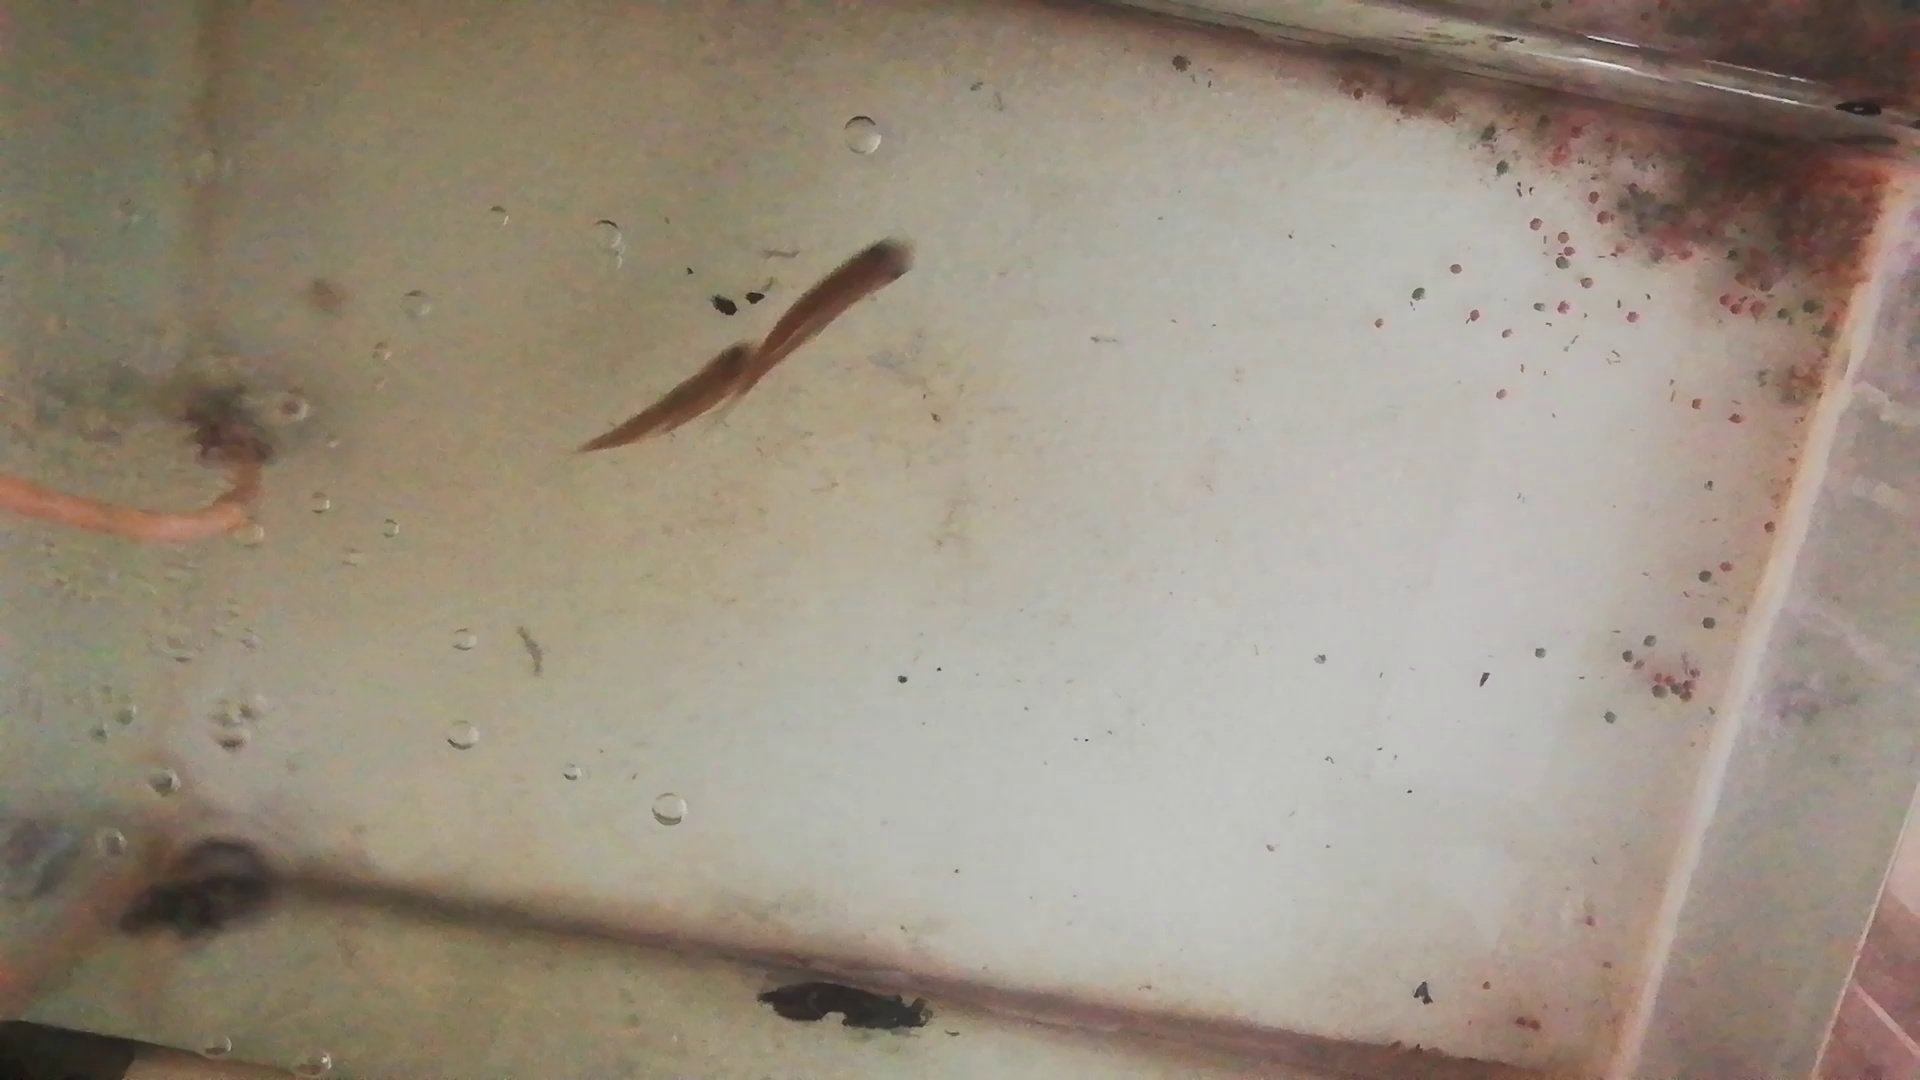fish: (738, 241, 911, 397), (578, 340, 760, 450)
